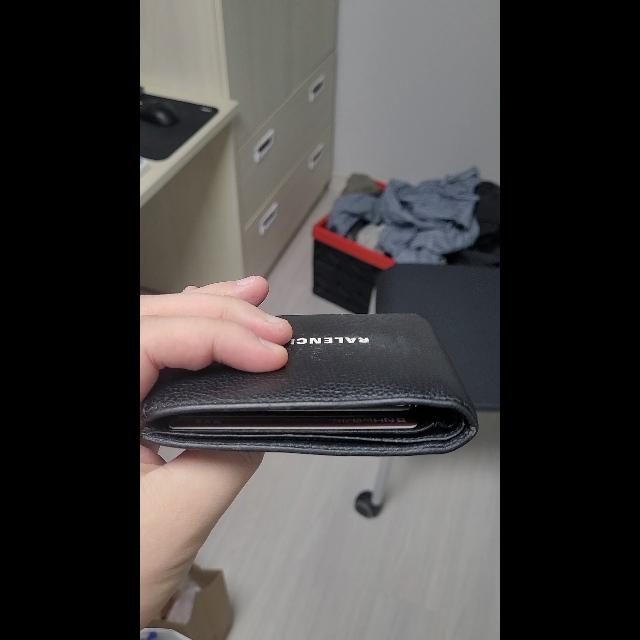WALLET: (140, 314, 478, 456)
